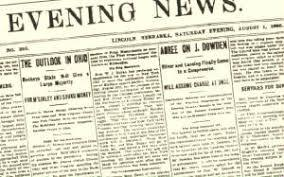Printing industry: (3, 3, 284, 177)
